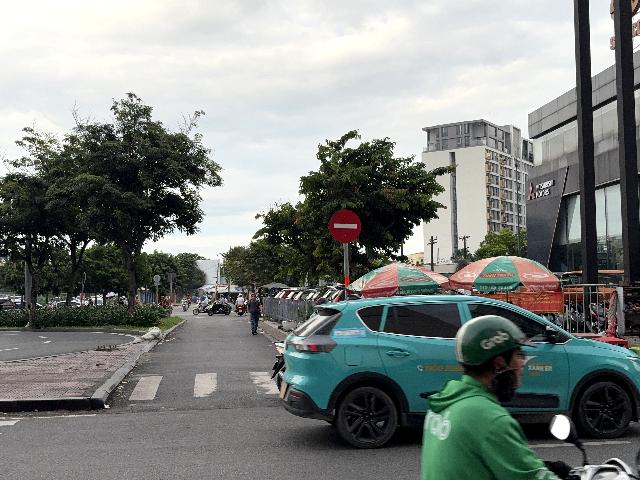cam-di-nguoc-chieu: (328, 209, 362, 243)
